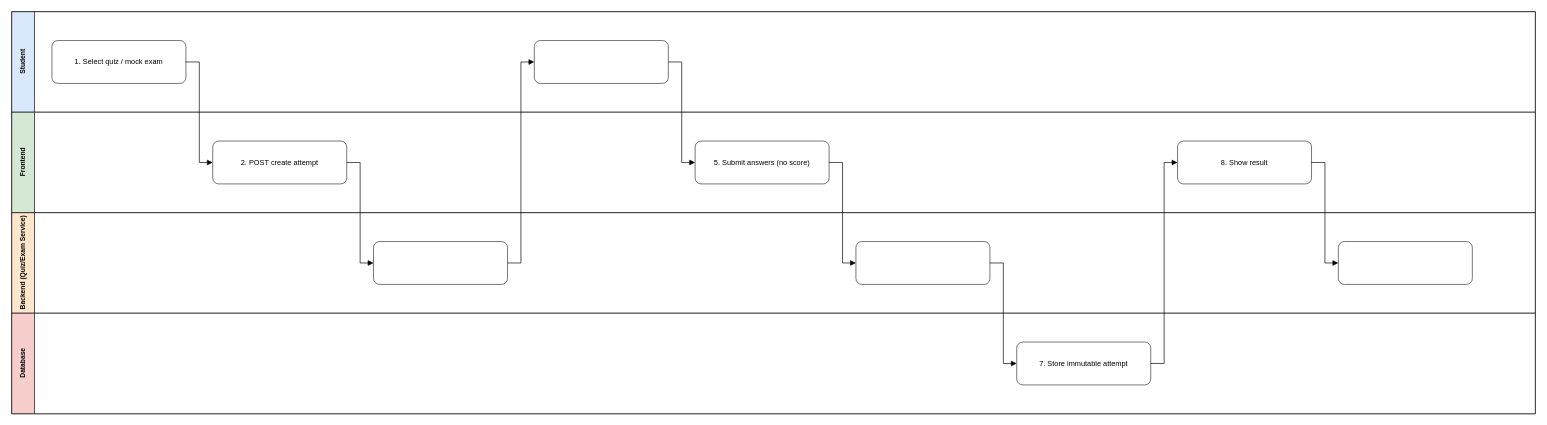
The diagram is 1547 pixels wide and 425 high, and some of its shapes have lost their labels. Each missing label, with the centre of its shape:
3. Create new attempt record: the point at 440,262
4. Answer questions: the point at 601,61
6. Validate server time, calculate score: the point at 922,262
9. Update flashcard next_review_at (SRS): the point at 1405,262
